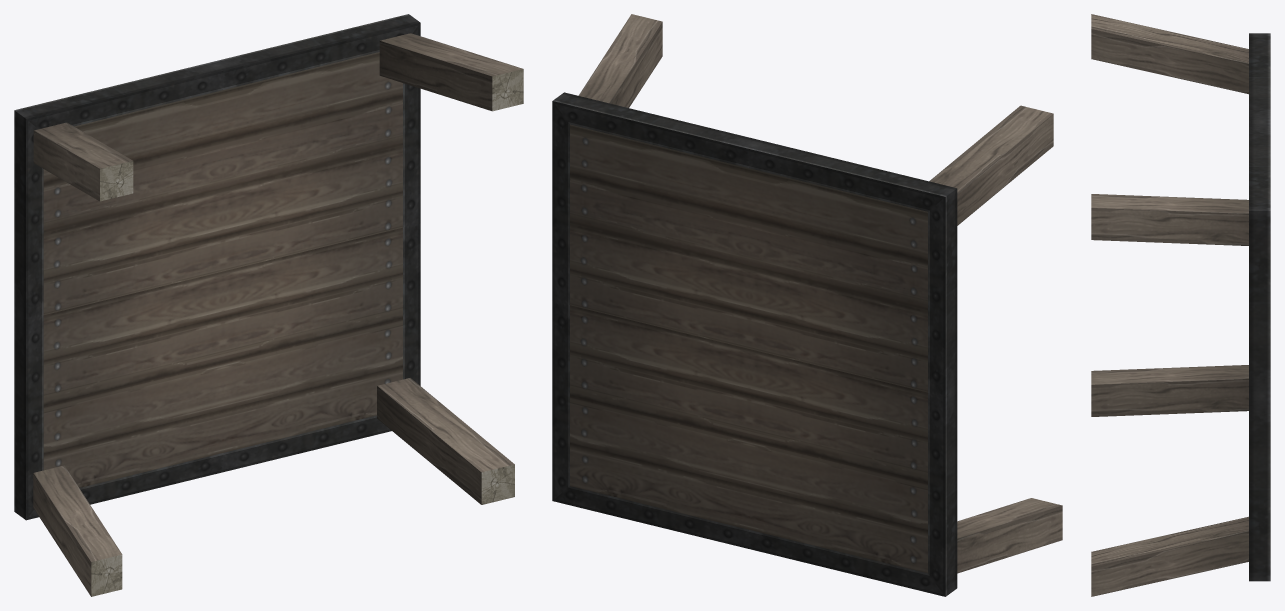
Rendered from Table_Square_B.fbx.
3 views of the same model, side by side, from view 1: azimuth 30°, elevation 25°; view 2: azimuth 150°, elevation 25°; view 3: azimuth 270°, elevation 25° (orthographic). The views are drawn at different scales.
Visible parts, largest first — view 1: Table_Square_B; view 2: Table_Square_B; view 3: Table_Square_B.
Boxes of the visible parts, box(x1,y1,x2,y2) form: Table_Square_B: box(14, 14, 523, 596); Table_Square_B: box(552, 14, 1062, 596); Table_Square_B: box(1091, 14, 1270, 596).
Size of the model in its own units: 2.38 by 2.26 by 0.9273.
